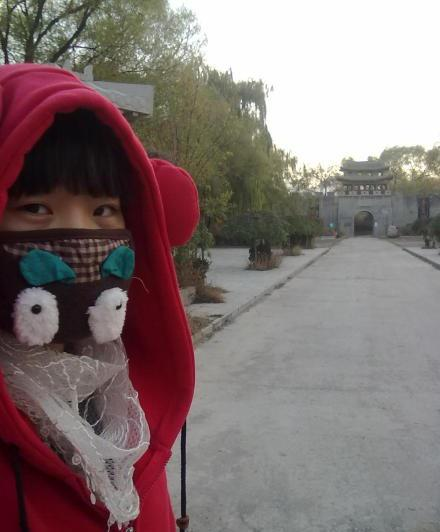OK: (4, 191, 141, 342)
